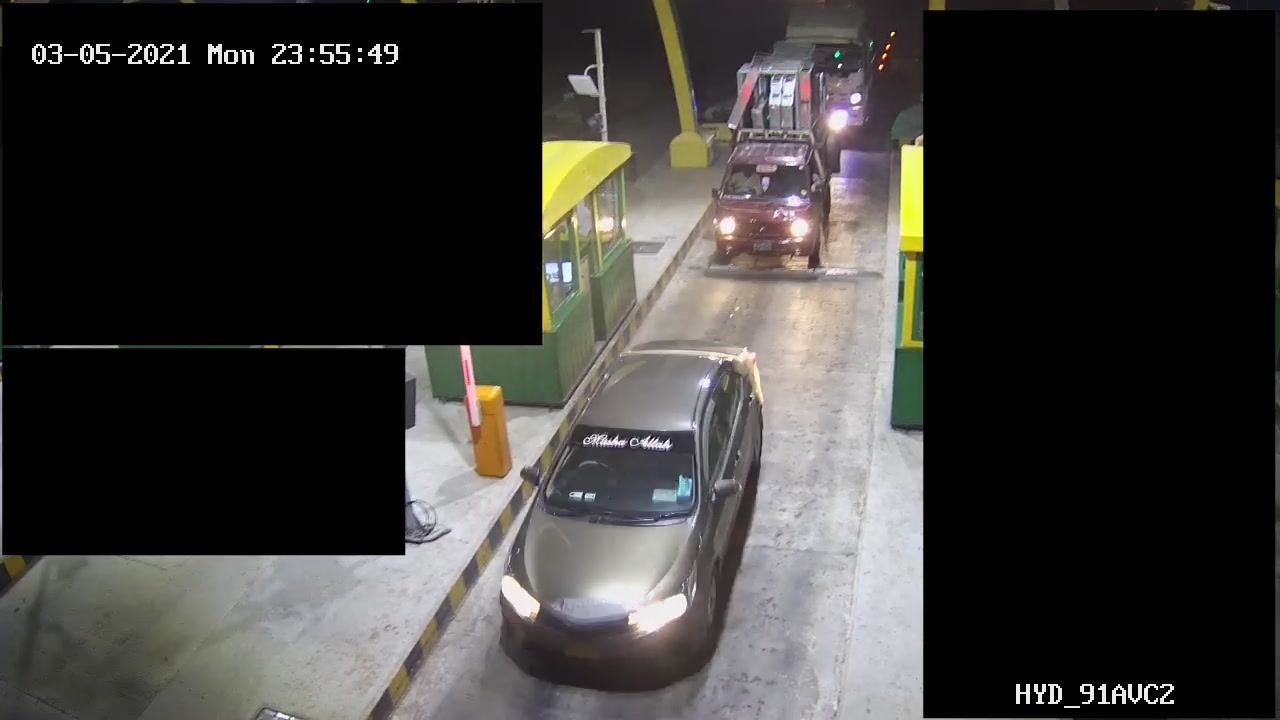F1: (483, 336, 791, 692), (709, 49, 832, 279)
